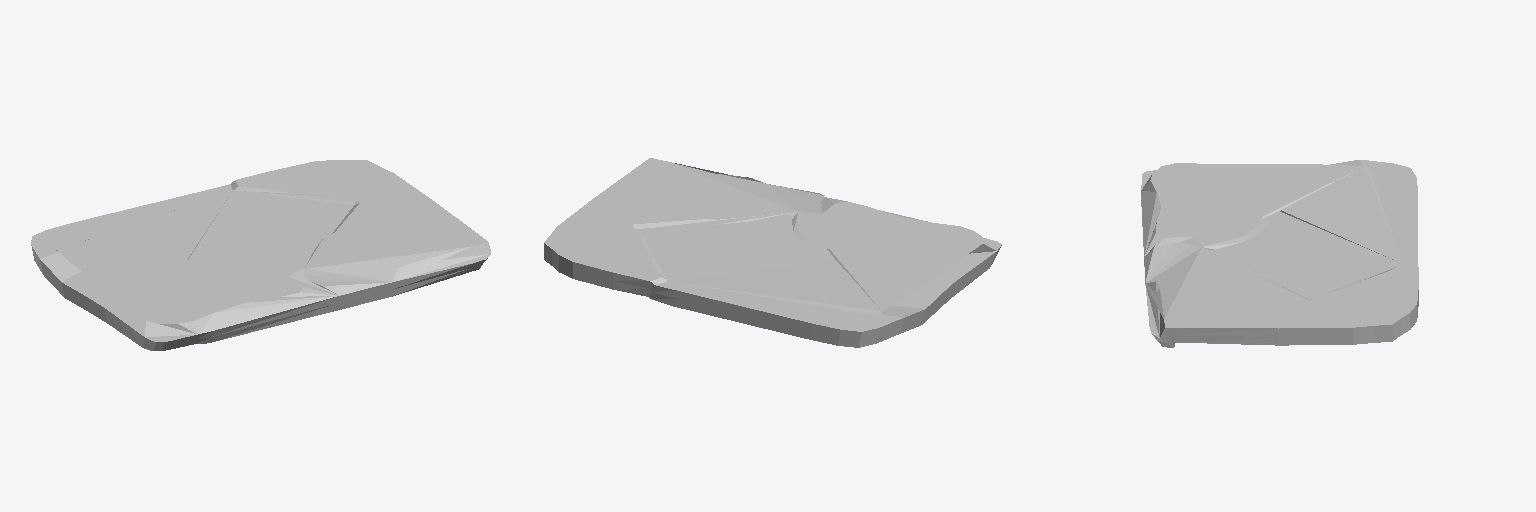
File: pedra1.obj
3 renders of one model, left to right at view 1: azimuth 30°, elevation 25°; view 2: azimuth 150°, elevation 25°; view 3: azimuth 270°, elevation 25°, orthographic.
Parts seen in each view (by area): view 1: Plane; view 2: Plane; view 3: Plane.
Part boxes in pixels (bbox=[...]): Plane: bbox=[31, 160, 490, 350]; Plane: bbox=[544, 158, 1001, 347]; Plane: bbox=[1141, 160, 1418, 347].
Bounding box in the file's own units: 4.27 × 0.3111 × 2.92.